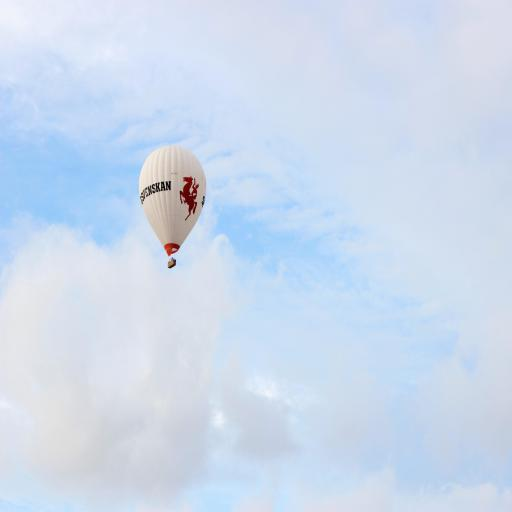hot air ballon: (139, 146, 206, 269)
